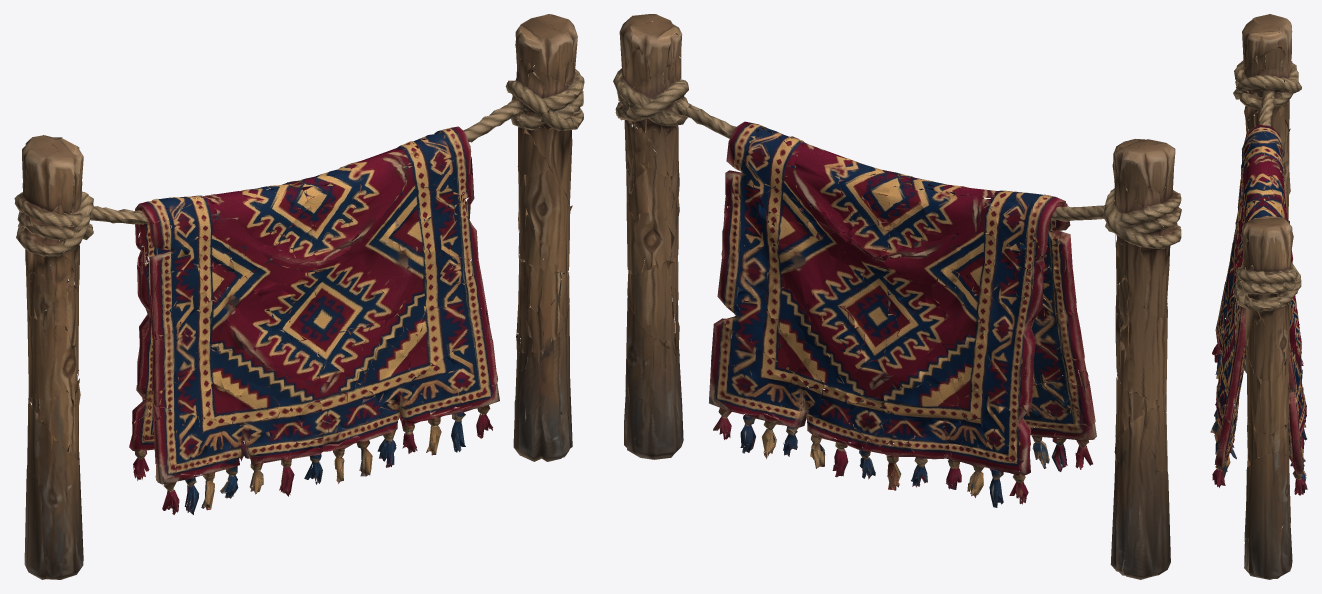
Rendered from KilimLine.fbx.
3 renders of one model, left to right at view 1: azimuth 30°, elevation 25°; view 2: azimuth 150°, elevation 25°; view 3: azimuth 270°, elevation 25°, orthographic. The views are drawn at different scales.
Visible parts, largest first — view 1: KilimLine.010; view 2: KilimLine.010; view 3: KilimLine.010.
Part boxes in pixels (<box>): KilimLine.010: <box>14,14,584,579</box>; KilimLine.010: <box>613,14,1181,579</box>; KilimLine.010: <box>1210,14,1307,579</box>.
Size of the model in its own units: 3.46 by 2.55 by 0.6348.
1 material, 1 textured.
